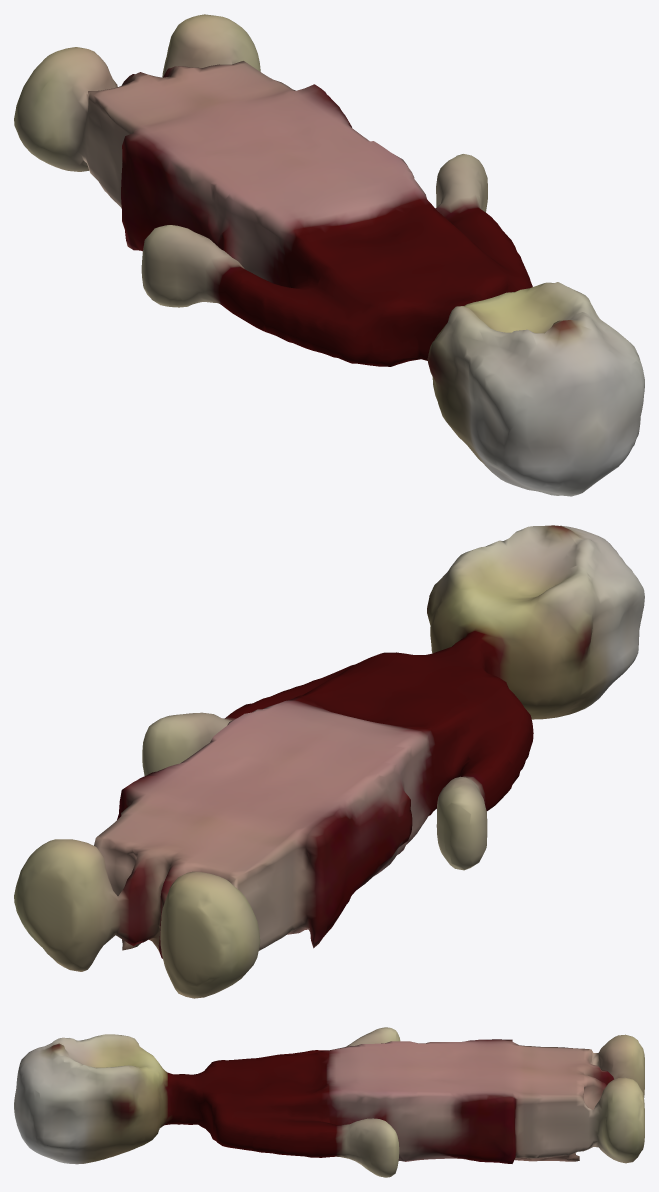
File: grandmother.glb
The picture shows the model from 3 angles, top to bottom: view 1: azimuth 30°, elevation 25°; view 2: azimuth 150°, elevation 25°; view 3: azimuth 270°, elevation 25°; orthographic projection. The views are drawn at different scales.
Size of the model in its own units: 0.4156 by 0.2056 by 1.
